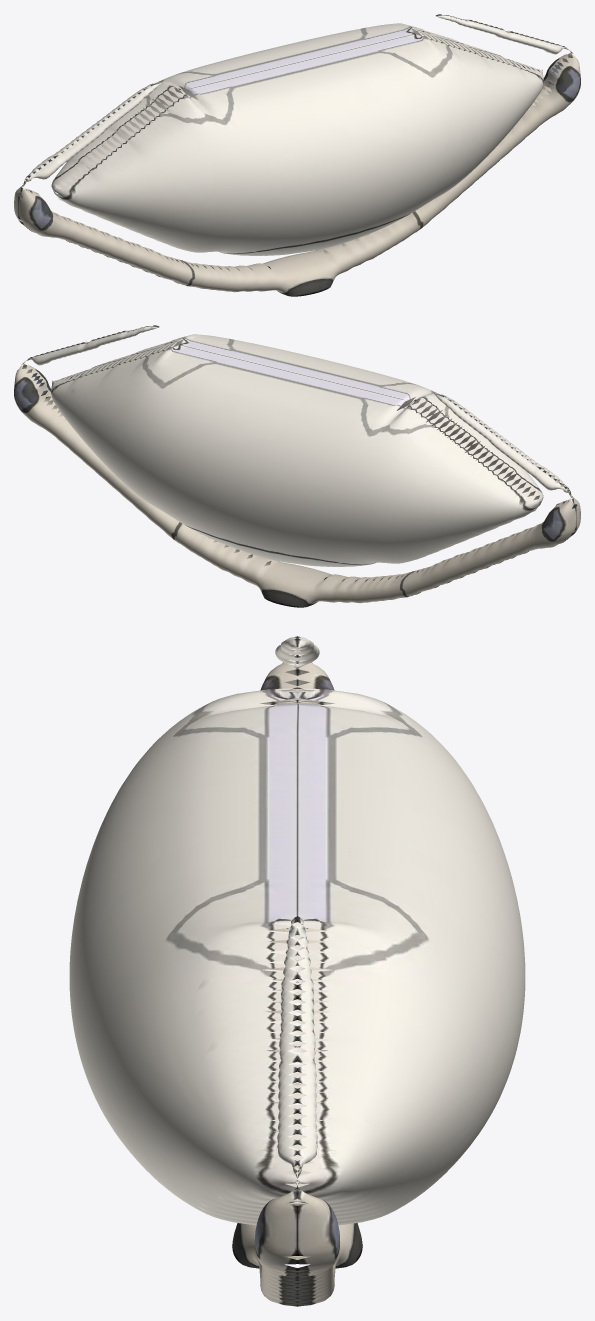
File: rear_platform.glb
The picture shows the model from 3 angles, top to bottom: view 1: azimuth 30°, elevation 25°; view 2: azimuth 150°, elevation 25°; view 3: azimuth 270°, elevation 25°; orthographic projection. The views are drawn at different scales.
Visible parts, largest first — view 1: rear_platform; view 2: rear_platform; view 3: rear_platform.
Boxes of the visible parts, x1,y1,x2,y2 form: rear_platform: [14, 14, 580, 296]; rear_platform: [14, 325, 580, 607]; rear_platform: [69, 636, 525, 1306].
Bounding box in the file's own units: 0.989 × 0.3949 × 0.3502.
Materials: 1 (1 with a texture image).
